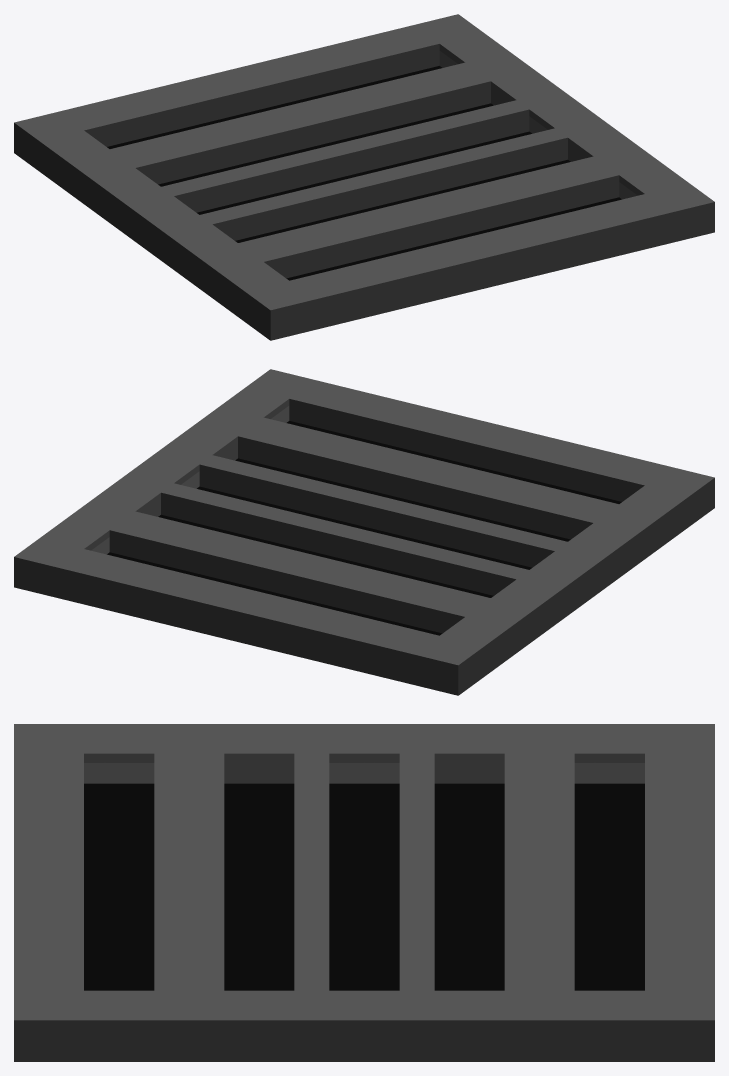
File: Vent.glb
3 views of the same model, one above another, from view 1: azimuth 30°, elevation 25°; view 2: azimuth 150°, elevation 25°; view 3: azimuth 270°, elevation 25° (orthographic). The views are drawn at different scales.
Parts seen in each view (by area): view 1: Plane; view 2: Plane; view 3: Plane.
Boxes of the visible parts, x1,y1,x2,y2 form: Plane: (14,14,714,340); Plane: (14,369,714,695); Plane: (14,724,714,1061).
Size of the model in its own units: 2 by 0.1311 by 2.
1 material, 1 textured.
